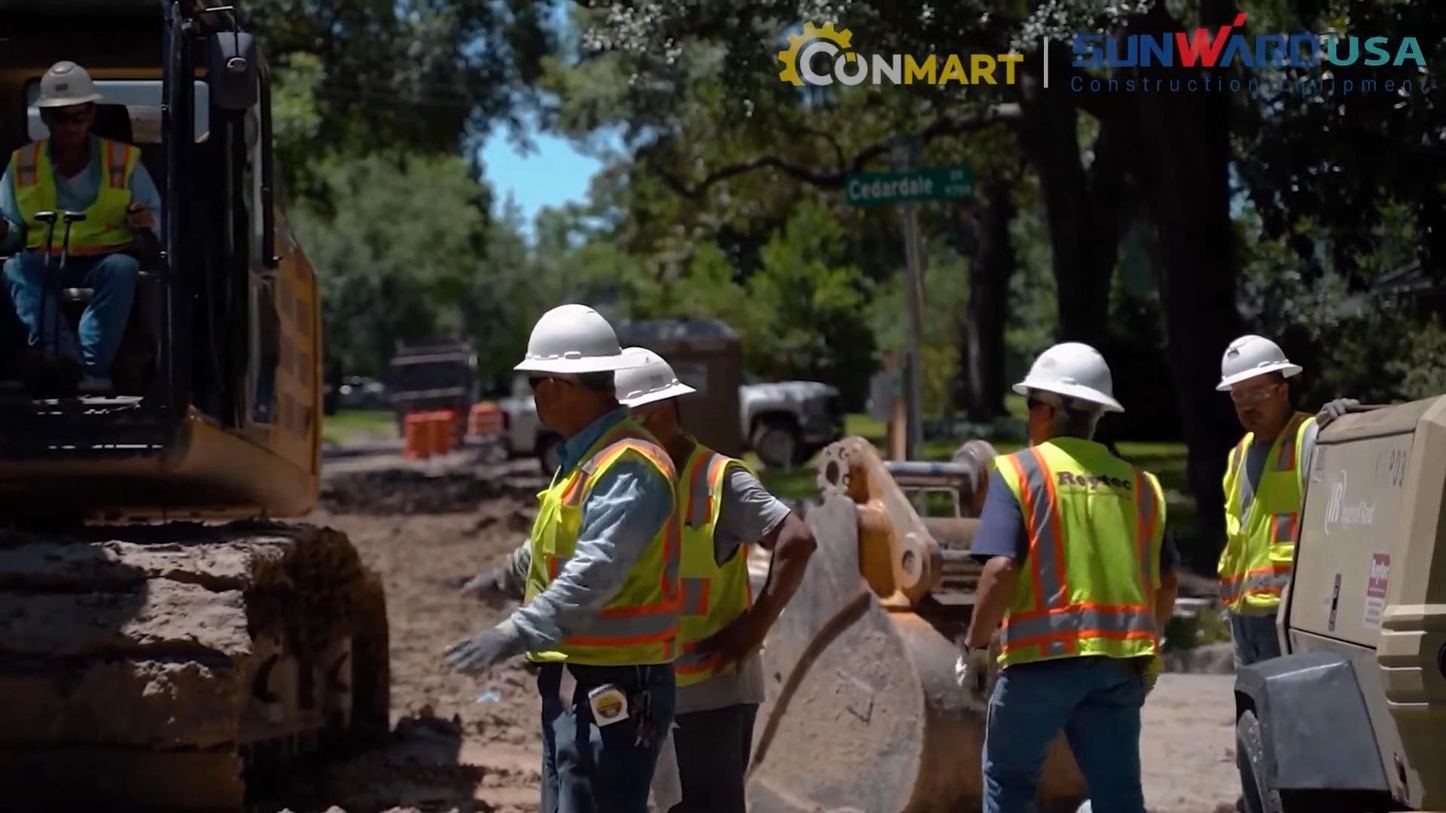Gloves: (439, 622, 515, 674), (958, 646, 1001, 717), (460, 551, 507, 603), (1315, 392, 1362, 422)
Helmet: (512, 303, 638, 374), (1013, 347, 1126, 416), (612, 345, 697, 409), (1219, 334, 1300, 388), (30, 64, 98, 108)
Person: (443, 303, 684, 811), (961, 341, 1180, 812), (612, 344, 818, 811), (1203, 324, 1334, 813), (14, 64, 158, 413)
Safety Vest: (1001, 452, 1148, 646), (549, 460, 670, 650), (14, 151, 137, 264), (1234, 446, 1300, 608)
bare-arms: (702, 621, 760, 675), (128, 197, 152, 232)
